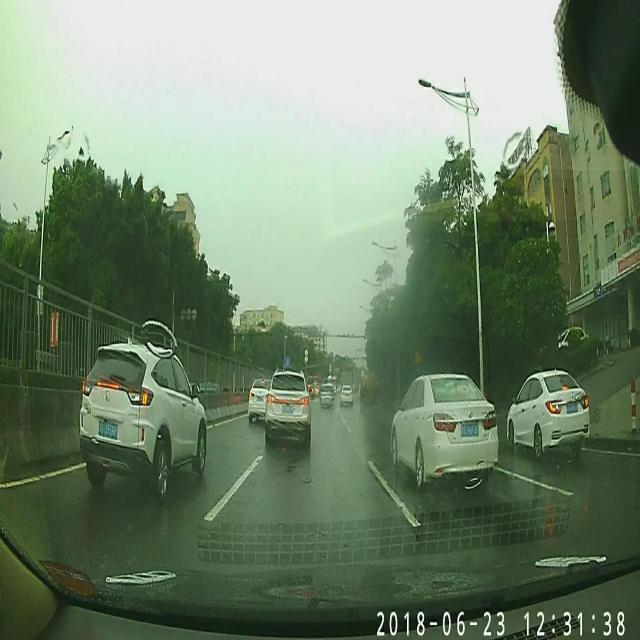car: (78, 337, 205, 498), (390, 372, 503, 479), (506, 370, 590, 458), (264, 368, 314, 446), (246, 379, 276, 419), (320, 379, 334, 406), (340, 381, 354, 406)
